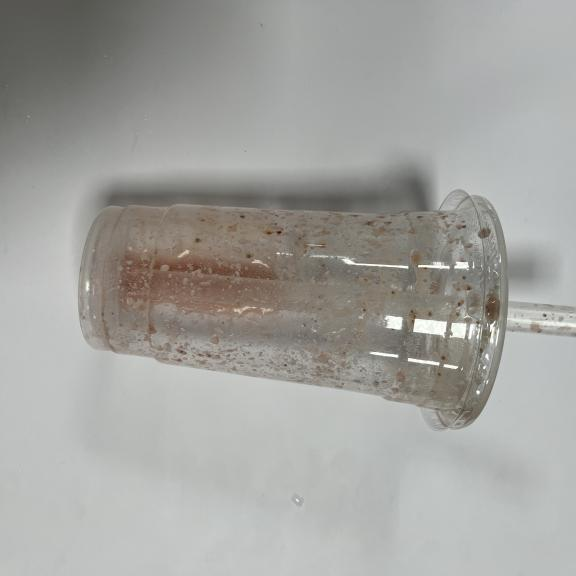Plastik: (80, 191, 507, 430)
